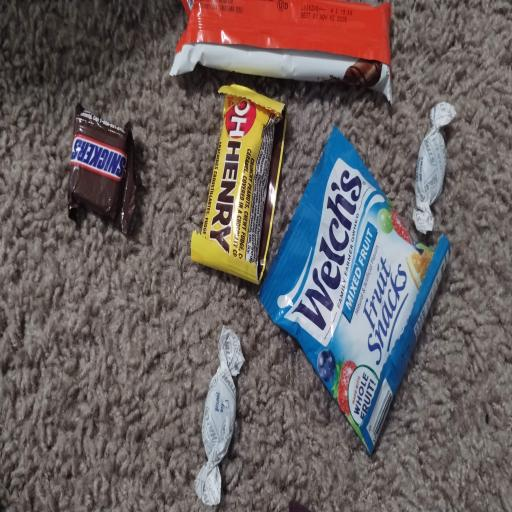chocolate: (260, 128, 449, 452), (170, 0, 392, 103), (191, 86, 285, 283), (194, 325, 245, 505), (68, 104, 136, 234), (413, 102, 456, 233)
